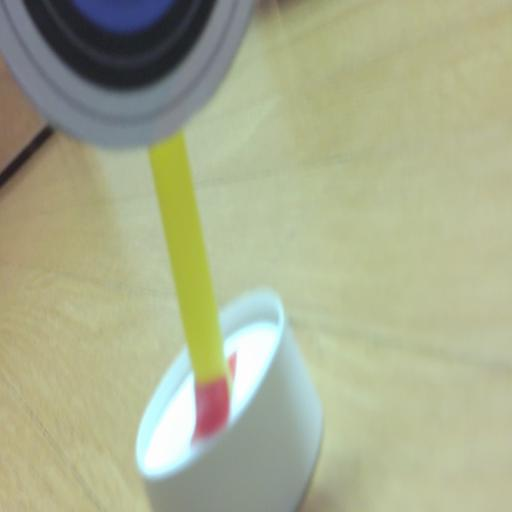target: (0, 0, 254, 144)
